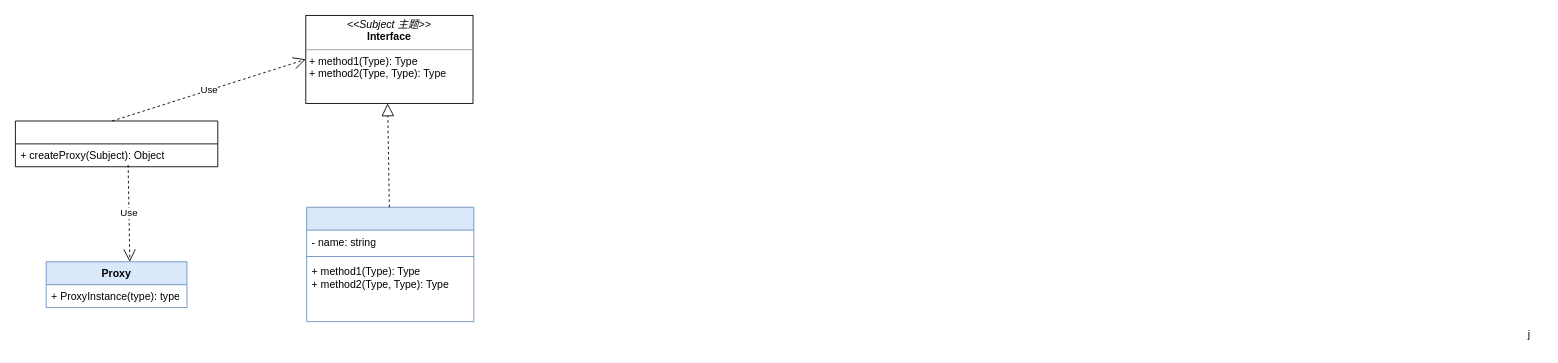
This 1558x363 diagram has some shape labels left out. The shapes that lost their labels are listed below. From the top down, each one's box as (x1, y1, x2, y2) in pixels, then its label:
(15, 120, 218, 167): ProxyInstance
(306, 206, 474, 322): RealSubject
